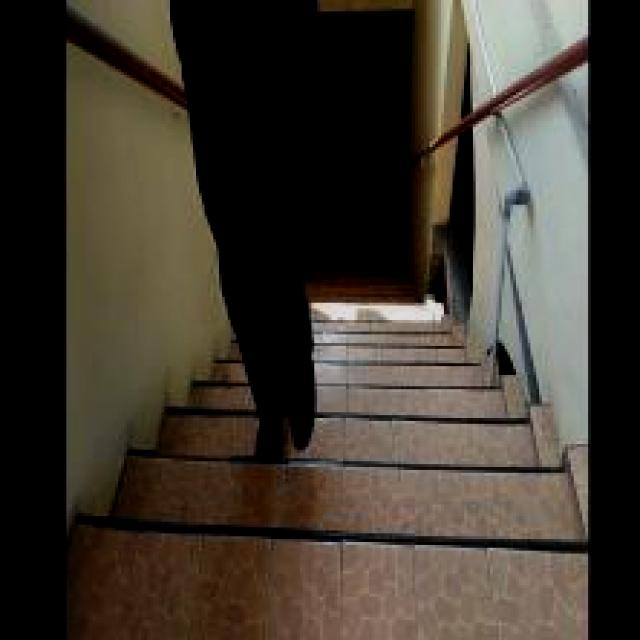downstair: (324, 309, 482, 640)
